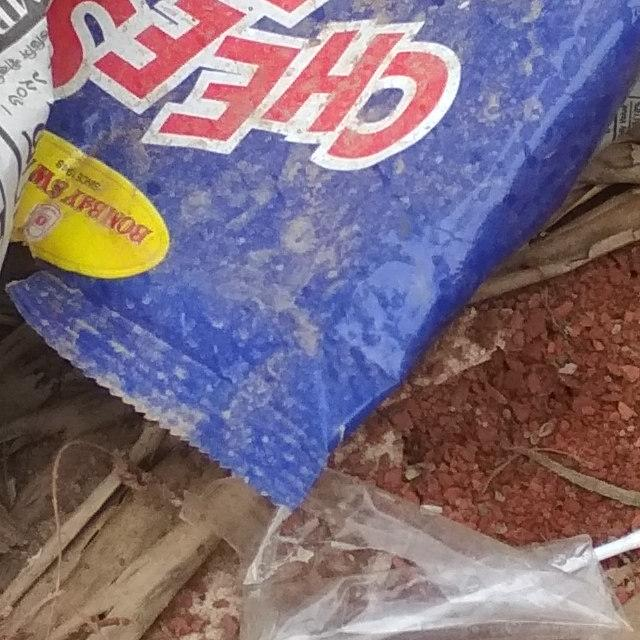paper: (0, 0, 188, 640)
plastic: (0, 0, 640, 542)
